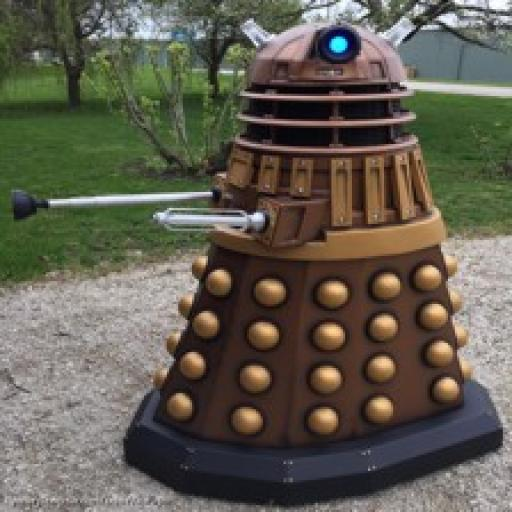dalek: (0, 10, 506, 502)
